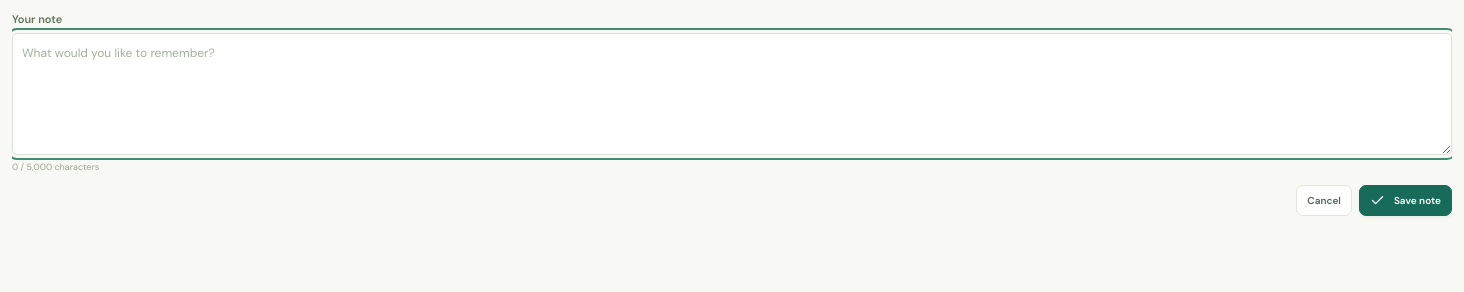
Test: private note editing › rejects an empty page note without sending a mutation
Click the button "Save note" at (1405, 200), box [1359, 185, 1452, 216]
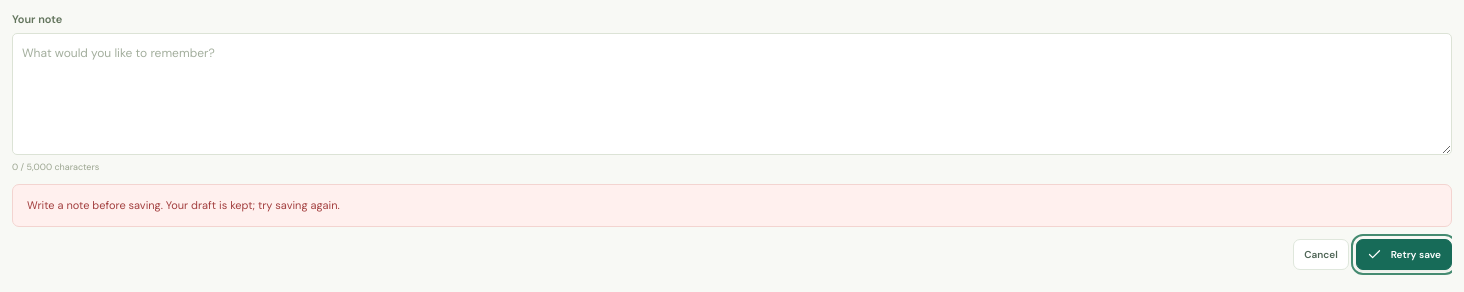
Result: the message shows "Write a note before saving" at [27, 198, 163, 212]
